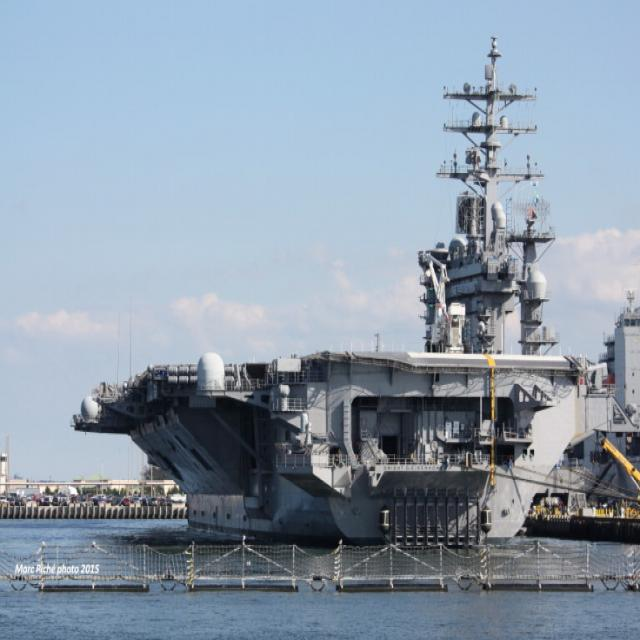Portanaves: (66, 30, 640, 550)
